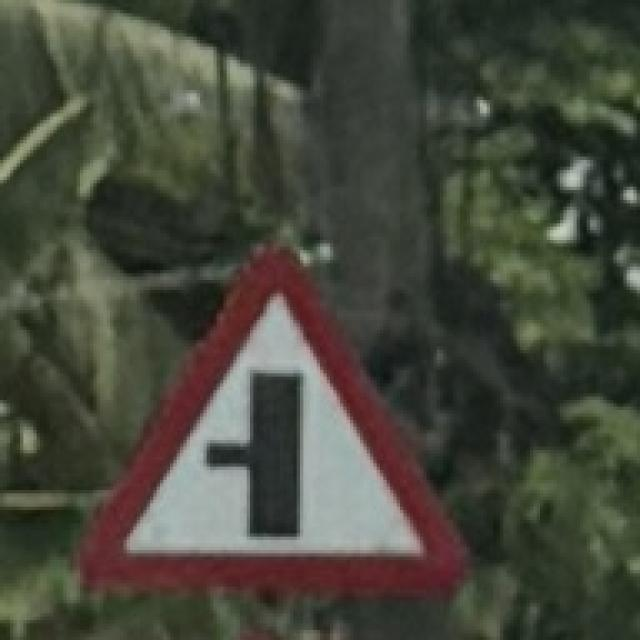SIDE_ROAD_LEFT: (57, 227, 485, 612)
